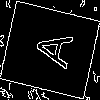A: (24, 24, 74, 69)
